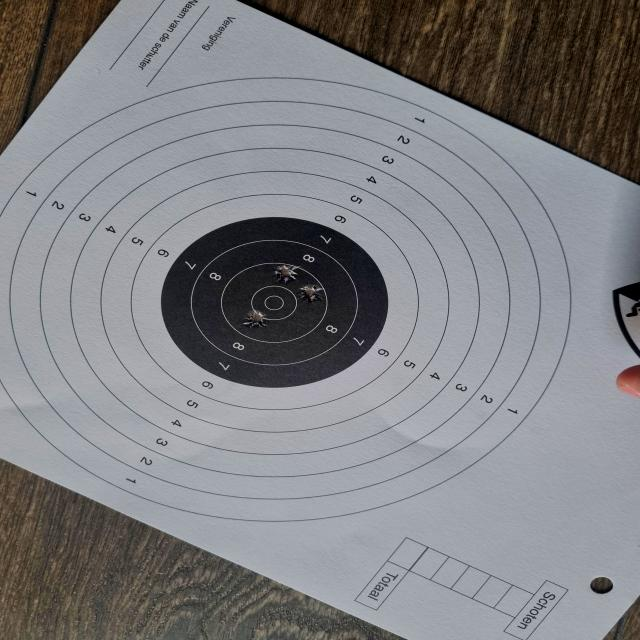10: (243, 311, 268, 328)
9: (273, 264, 300, 284), (297, 285, 325, 303)
Target: (0, 74, 571, 523)
black_contour: (159, 217, 388, 392)
